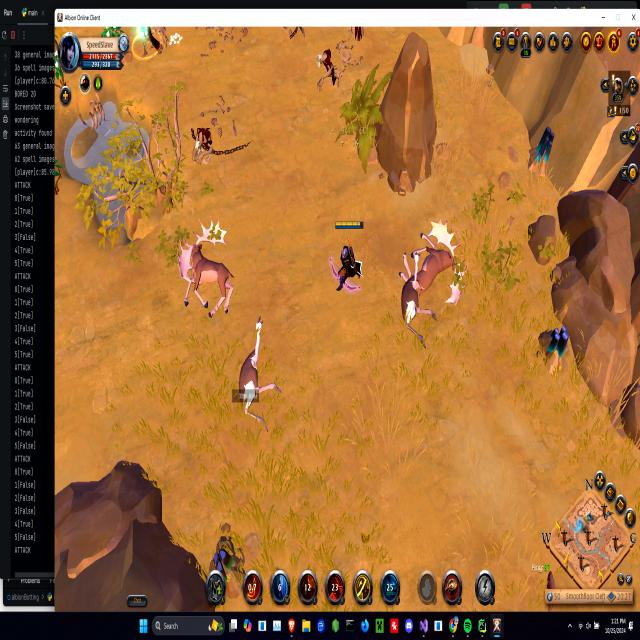mob: (397, 217, 468, 300), (178, 217, 236, 316), (232, 318, 282, 432), (399, 253, 427, 351)
ore: (312, 48, 342, 98), (130, 24, 165, 64), (189, 122, 214, 173)
player: (535, 316, 573, 382), (210, 528, 245, 596), (530, 122, 555, 173)
red: (329, 218, 366, 298)
stone: (168, 30, 185, 48)
